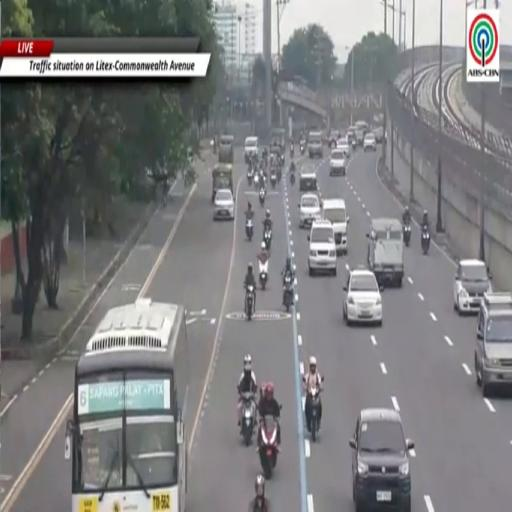bus: (65, 299, 189, 511)
car: (350, 408, 414, 511), (475, 293, 511, 396), (367, 218, 404, 286), (343, 268, 382, 326), (454, 260, 492, 314), (308, 219, 336, 276), (322, 199, 349, 254), (299, 194, 321, 228), (214, 189, 235, 219), (330, 149, 346, 175), (219, 135, 233, 164), (308, 132, 323, 158), (300, 169, 317, 191), (245, 137, 258, 162), (336, 138, 350, 159), (362, 132, 376, 152), (328, 131, 340, 149), (373, 126, 385, 143), (355, 121, 369, 134), (347, 125, 356, 145), (355, 128, 364, 146)
motorcycle: (258, 415, 278, 478), (306, 387, 320, 442), (241, 393, 255, 445), (244, 285, 255, 321), (283, 274, 293, 312), (259, 260, 269, 290), (421, 228, 430, 254), (403, 224, 411, 247), (264, 229, 272, 251), (246, 218, 253, 241), (247, 168, 254, 185), (259, 187, 265, 206), (270, 173, 276, 188), (254, 173, 260, 187), (162, 192, 167, 206), (290, 172, 295, 185), (300, 143, 305, 155), (352, 138, 357, 150), (290, 146, 294, 158)
